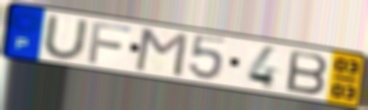4: (242, 44, 281, 92)
5: (187, 32, 228, 83)
B: (285, 48, 331, 96)
F: (86, 20, 134, 65)
M: (132, 27, 190, 80)
U: (41, 14, 91, 63)
